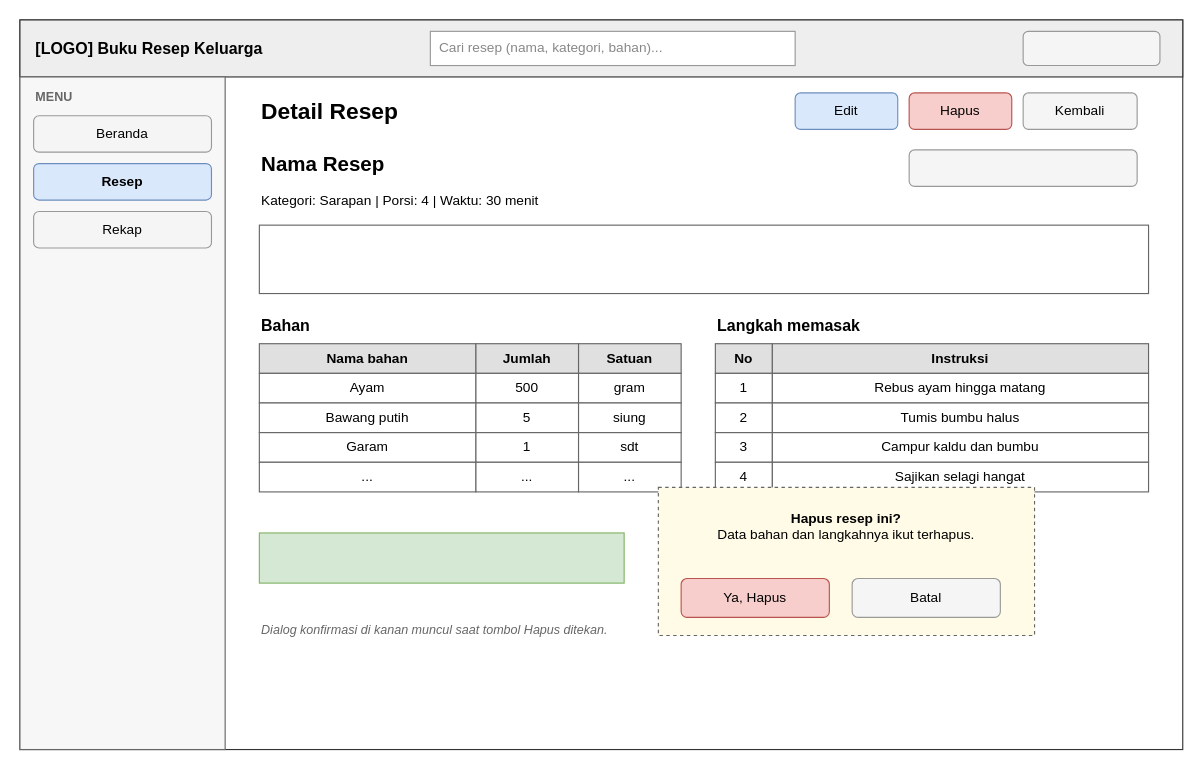
Image size: 1203x770. Some labels were removed from this diagram. Each missing label, with the centre of its shape:
Deskripsi resep tampil di sini.: the point at 703,259
Notifikasi: Data berhasil disimpan / dihapus: the point at 441,557
Profil ▾: the point at 1091,48
☆ Tandai Favorit: the point at 1022,167
